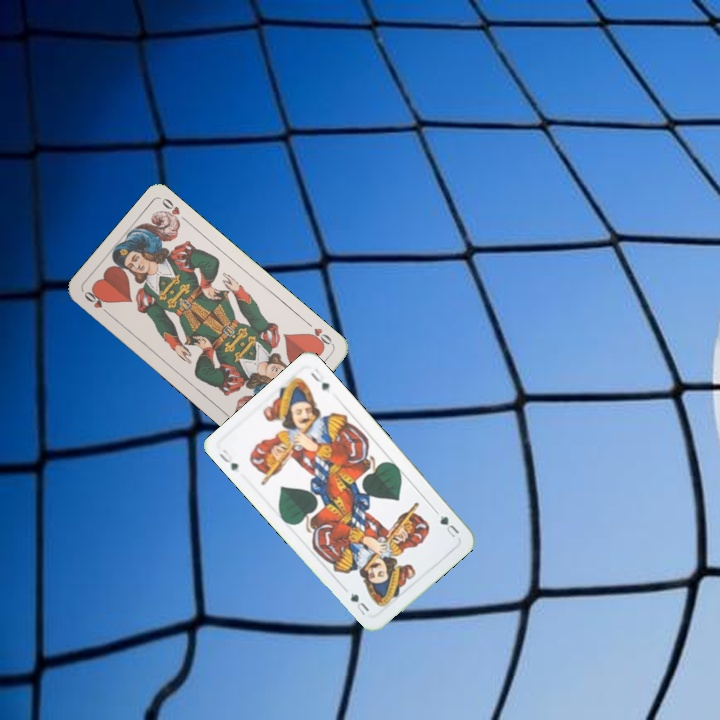GU: (435, 511, 462, 540), (215, 445, 241, 474)
HO: (302, 317, 336, 350), (80, 286, 113, 318)
